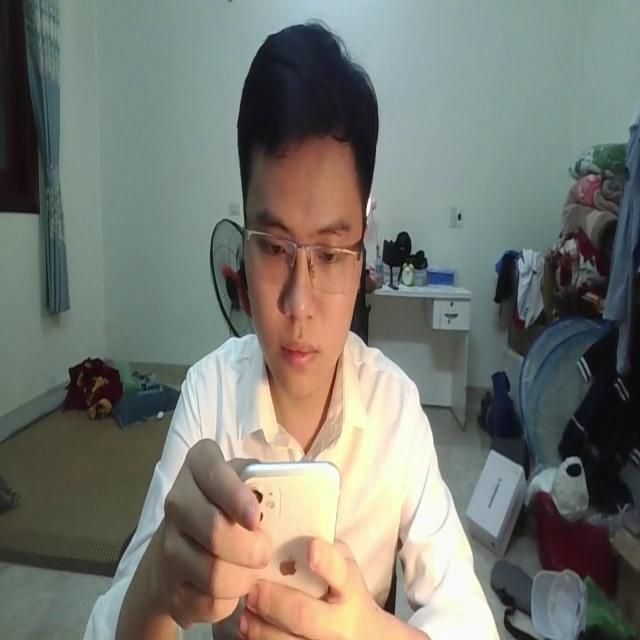phone: (236, 449, 340, 623)
student: (83, 10, 499, 640)
